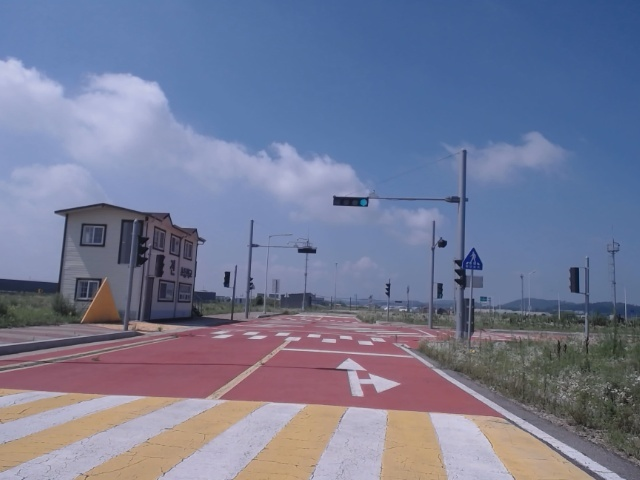straight_green_4: (333, 198, 368, 207)
